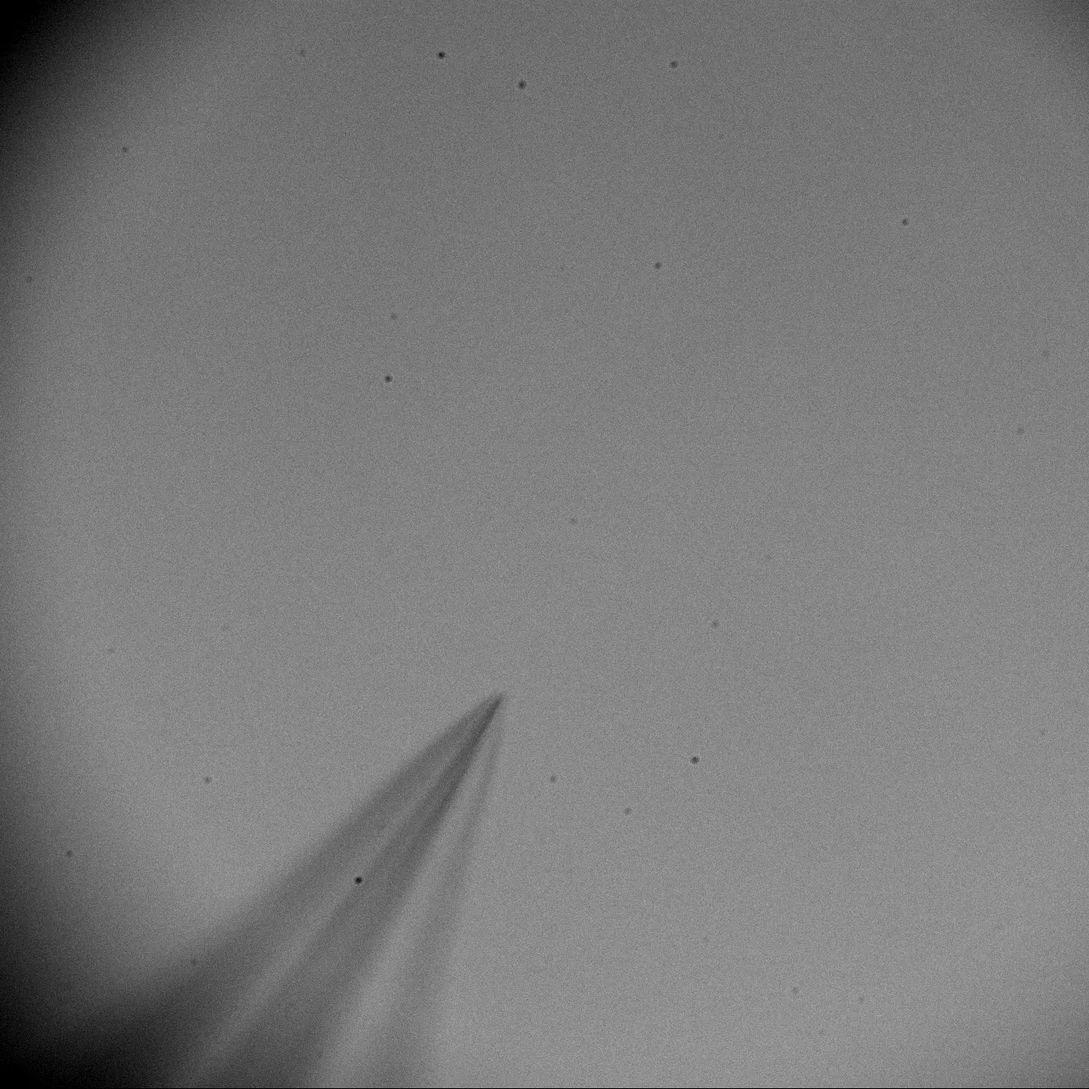tip: (413, 696, 518, 785)
